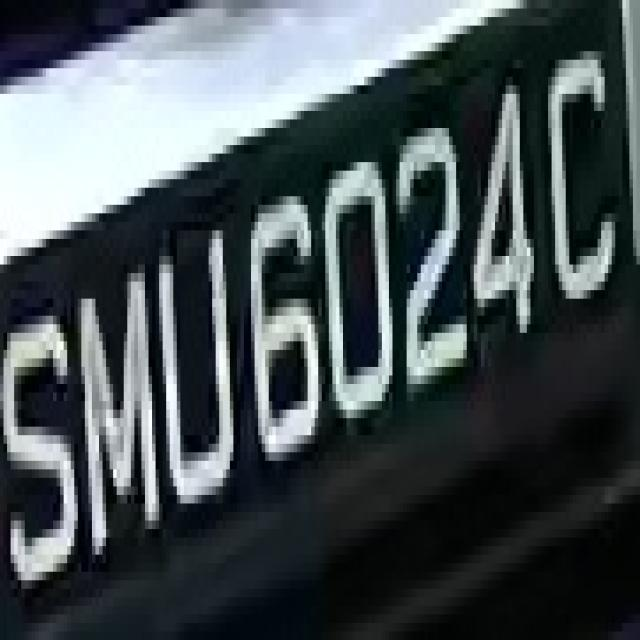0: (314, 162, 400, 444)
2: (389, 128, 481, 401)
4: (456, 77, 538, 350)
6: (240, 196, 329, 486)
C: (541, 34, 626, 316)
M: (70, 273, 162, 555)
S: (14, 273, 74, 580)
U: (156, 222, 240, 555)
